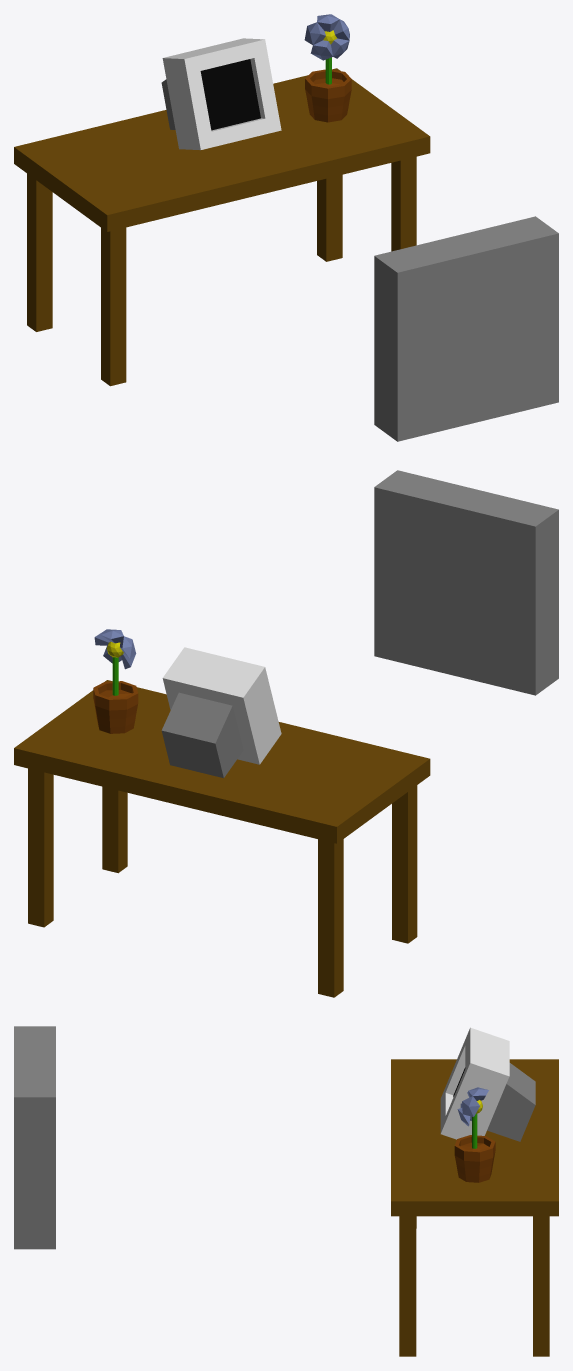
The model's file is stuff.fbx.
3 renders of one model, top to bottom at view 1: azimuth 30°, elevation 25°; view 2: azimuth 150°, elevation 25°; view 3: azimuth 270°, elevation 25°, orthographic. The views are drawn at different scales.
Parts seen in each view (by area): view 1: Desk, Cube, Monitor, Cylinder; view 2: Desk, Cube, Monitor, Cylinder; view 3: Desk, Cube, Monitor, Cylinder.
Boxes of the visible parts, bbox=[...] form: Desk: bbox=[14, 68, 430, 386]; Cube: bbox=[374, 216, 558, 441]; Monitor: bbox=[161, 38, 281, 150]; Cylinder: bbox=[304, 14, 351, 122]; Desk: bbox=[14, 680, 430, 997]; Cube: bbox=[374, 470, 558, 695]; Monitor: bbox=[161, 647, 281, 778]; Cylinder: bbox=[93, 629, 138, 733]; Desk: bbox=[391, 1059, 558, 1356]; Cube: bbox=[14, 1026, 55, 1249]; Monitor: bbox=[440, 1027, 535, 1141]; Cylinder: bbox=[454, 1087, 495, 1182].
Size of the model in its own units: 400 by 326 by 649.
